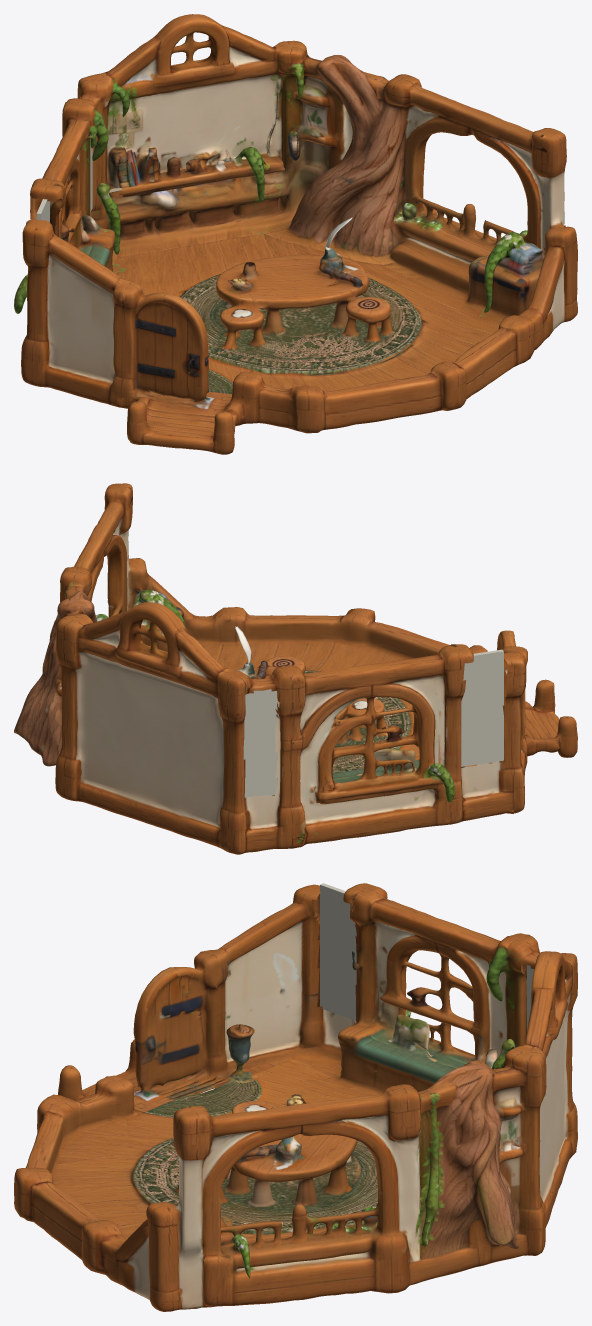
File: treehouse-interior.glb
3 views of the same model, one above another, from view 1: azimuth 30°, elevation 25°; view 2: azimuth 150°, elevation 25°; view 3: azimuth 270°, elevation 25° (orthographic). The views are drawn at different scales.
Visible parts, largest first — view 1: Treehouse_Interior; view 2: Treehouse_Interior, Restored wall 0, Restored wall 1; view 3: Treehouse_Interior, Restored wall 0.
Part boxes in pixels (<box>): Treehouse_Interior: <box>14,14,577,454</box>; Treehouse_Interior: <box>14,483,577,854</box>; Restored wall 0: <box>461,649,503,766</box>; Restored wall 1: <box>243,689,276,797</box>; Treehouse_Interior: <box>14,883,577,1311</box>; Restored wall 0: <box>320,883,356,1020</box>.
Size of the model in its own units: 0.9774 by 0.4469 by 0.8912.
2 materials, 1 textured.
